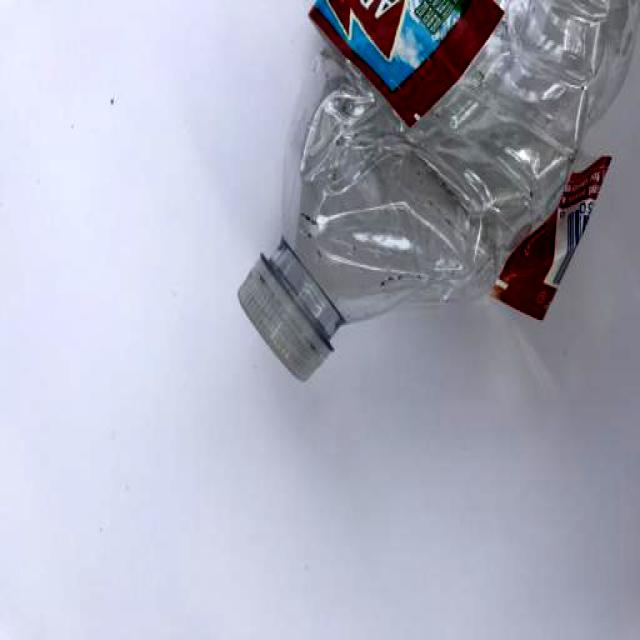Plastic: (225, 0, 640, 401)
